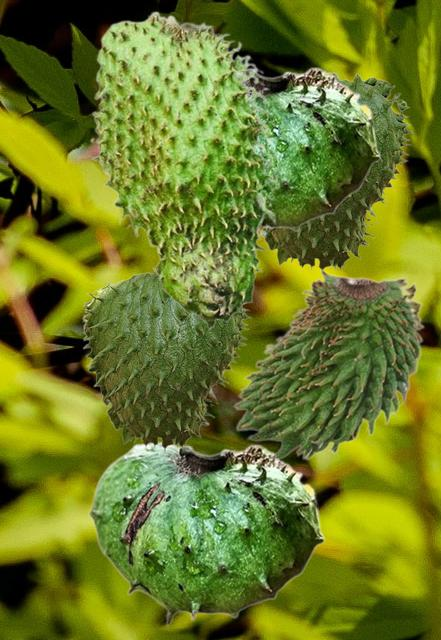guyabano: (89, 10, 279, 328), (88, 441, 324, 626), (232, 267, 424, 459), (82, 266, 251, 453), (262, 71, 413, 274), (247, 64, 380, 232)
